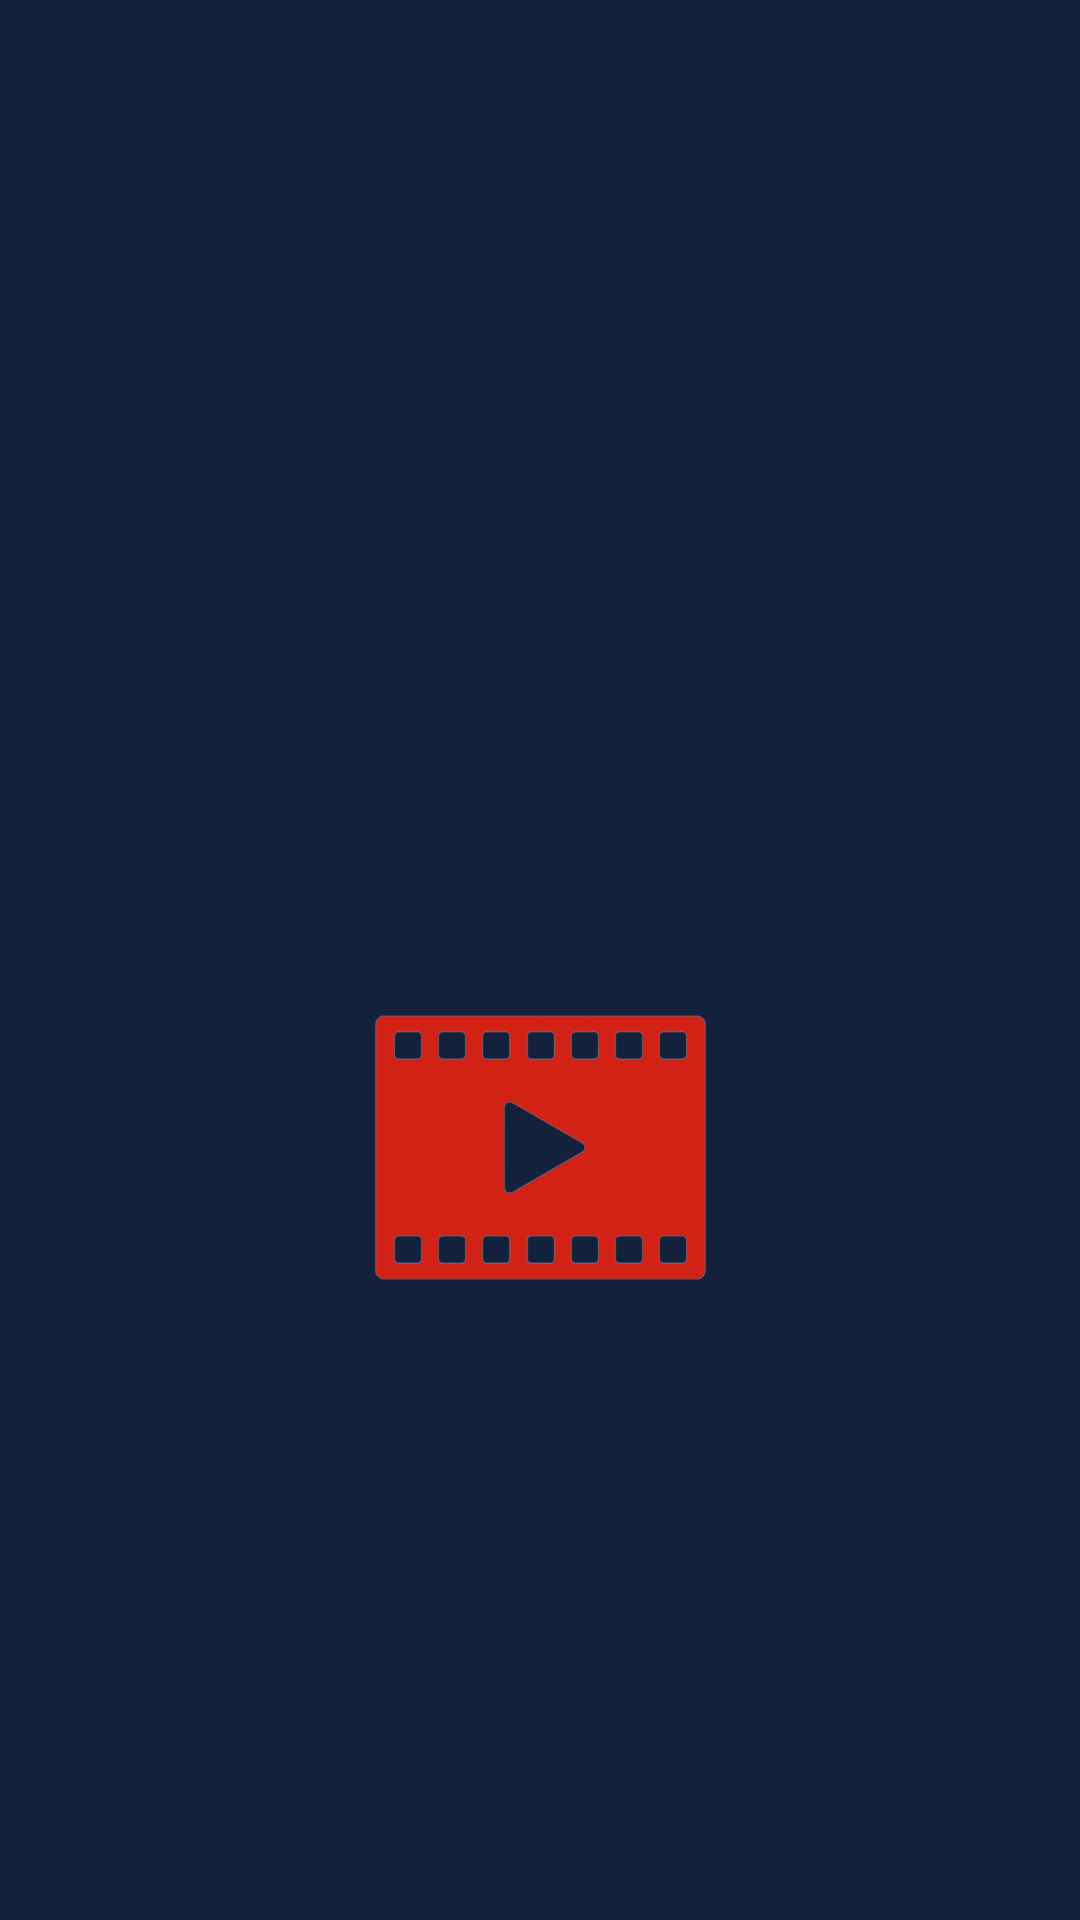

Screen size 1080x1920. Icon name, then its center in pixels as [x,y]:
stream: [540,1147]
